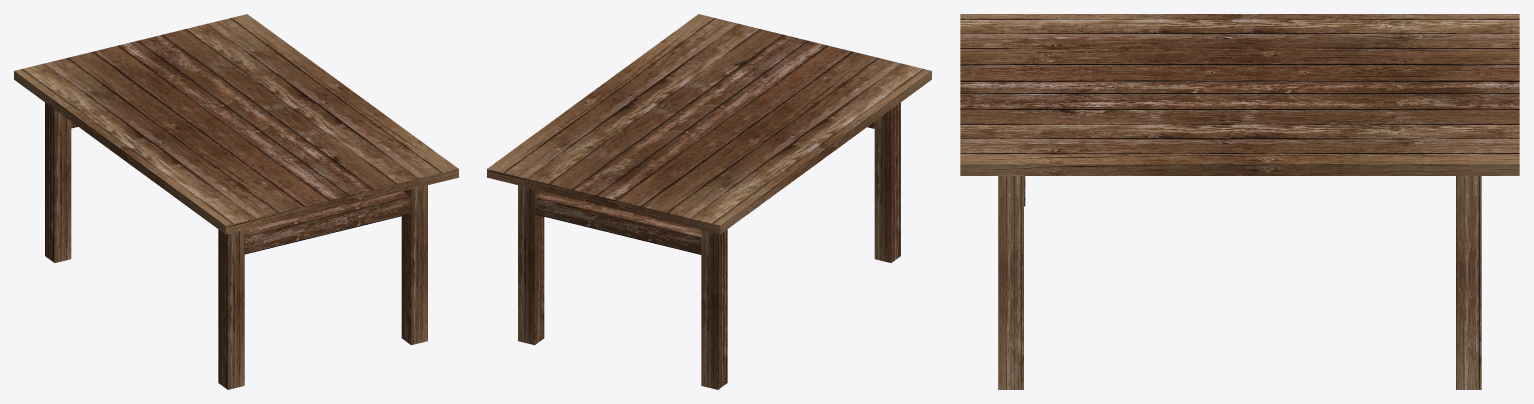
File: table.fbx
The picture shows the model from 3 angles, left to right: view 1: azimuth 30°, elevation 25°; view 2: azimuth 150°, elevation 25°; view 3: azimuth 270°, elevation 25°; orthographic projection. The views are drawn at different scales.
Parts seen in each view (by area): view 1: Platte, Bein, Stütze_2, Bein_3, Bein_2; view 2: Platte, Stütze, Bein_3, Bein, Bein_4; view 3: Platte, Bein_2, Bein_4.
Boxes of the visible parts, x1,y1,x2,y2 form: Platte: (14, 14, 458, 234); Bein: (218, 229, 244, 389); Stütze_2: (244, 191, 410, 254); Bein_3: (45, 102, 71, 262); Bein_2: (401, 185, 427, 345); Platte: (487, 14, 931, 234); Stütze: (535, 191, 701, 254); Bein_3: (701, 229, 727, 389); Bein: (874, 102, 900, 262); Bein_4: (518, 185, 544, 345); Platte: (960, 14, 1519, 175); Bein_2: (998, 176, 1023, 389); Bein_4: (1456, 176, 1481, 389).
Size of the model in its own units: 0.0551 by 0.0404 by 0.0866.
